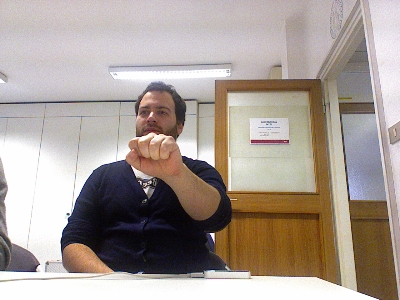石头: (124, 130, 184, 179)
